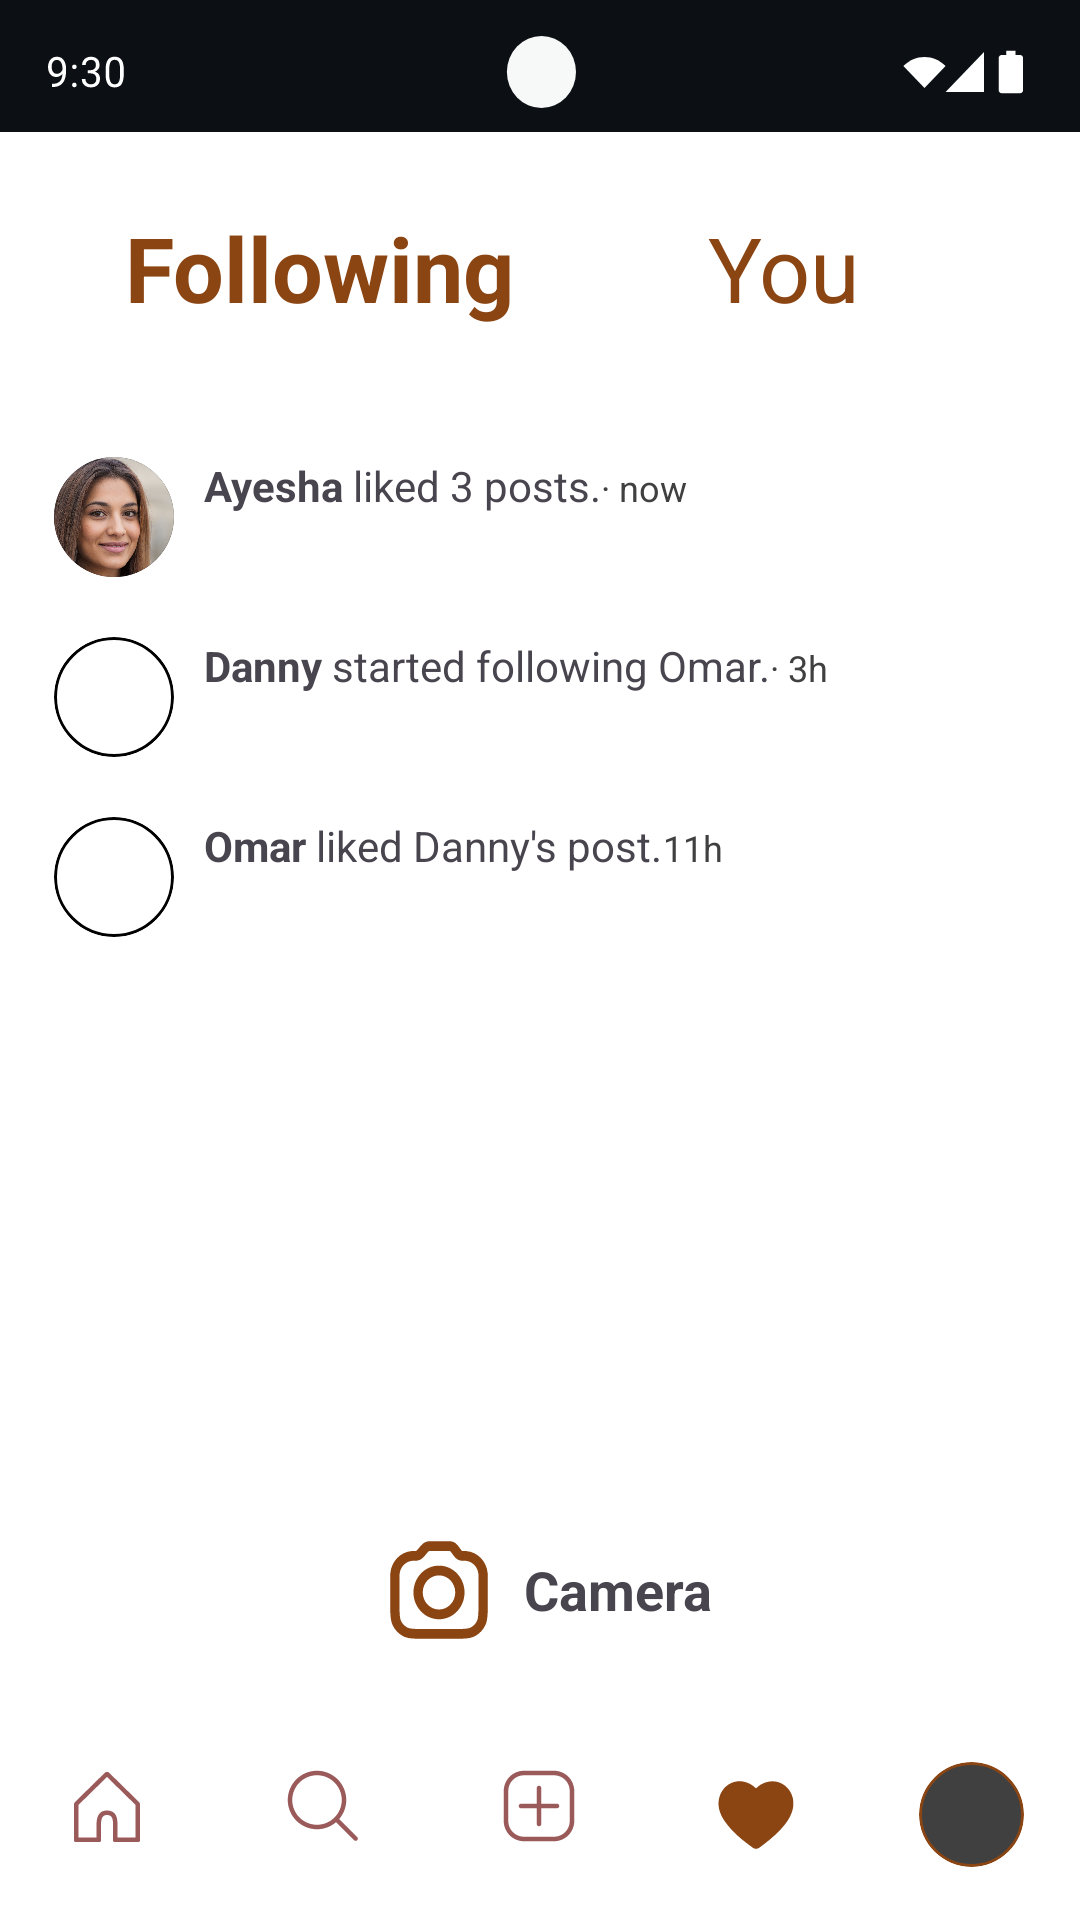

Point at icon controls on the screen. Image size 1080 x 1920, points as (x,y).
plus: (539,1806)
search: (322,1805)
